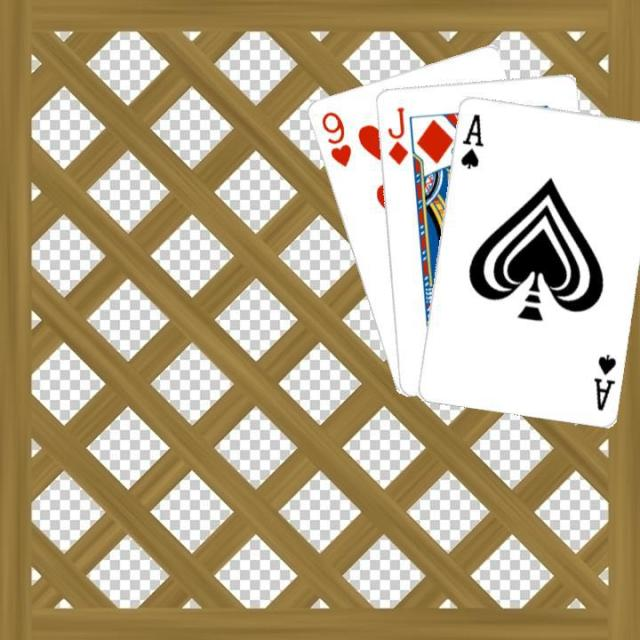9H: (316, 107, 353, 169)
AS: (589, 350, 618, 412), (456, 109, 485, 170)
JD: (383, 103, 410, 167)
